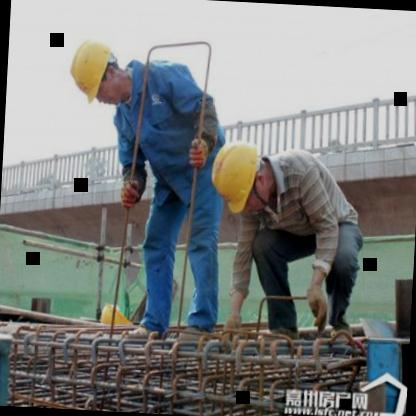helmet: (60, 31, 132, 114), (204, 134, 273, 218)
